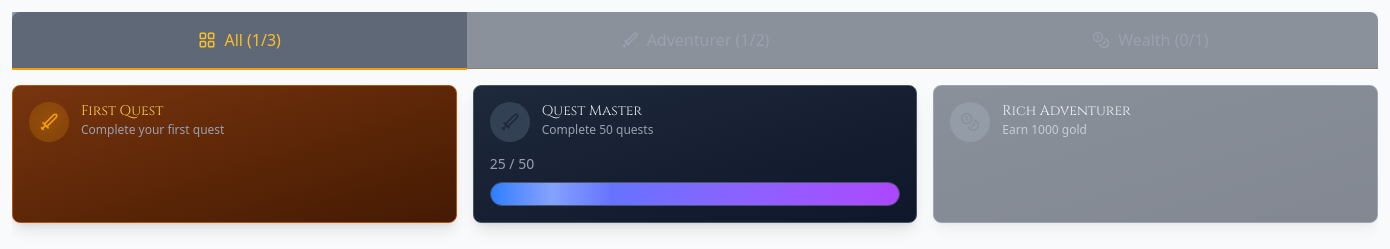
Test: AchievementGrid › shows all achievements when clicking back to All tab
Note: Click Wealth tab first
What coordinates should you click on to do the following:
click the tab with test id "achievement-tab-cat-2"
I would click on:
 (1150, 41)
Its box is [923,12,1378,70].
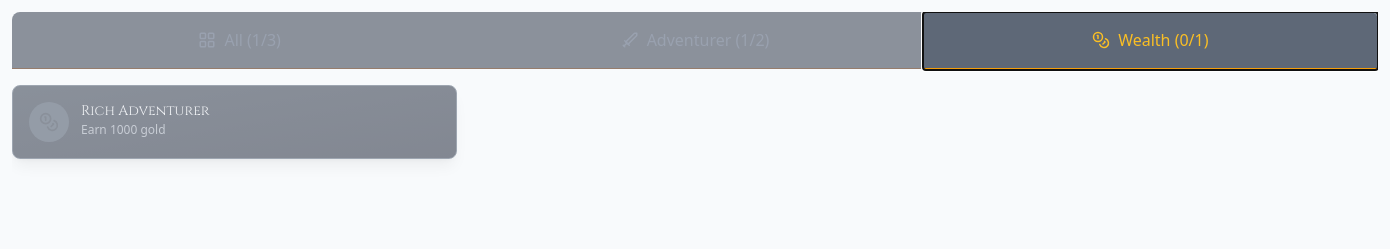
Expected: the heading "First Quest" is gone
Note: Click All tab
What coordinates should you click on to do the following:
click the tab with test id "achievement-tab-all"
I would click on:
 (240, 41)
Its box is [12,12,467,70].
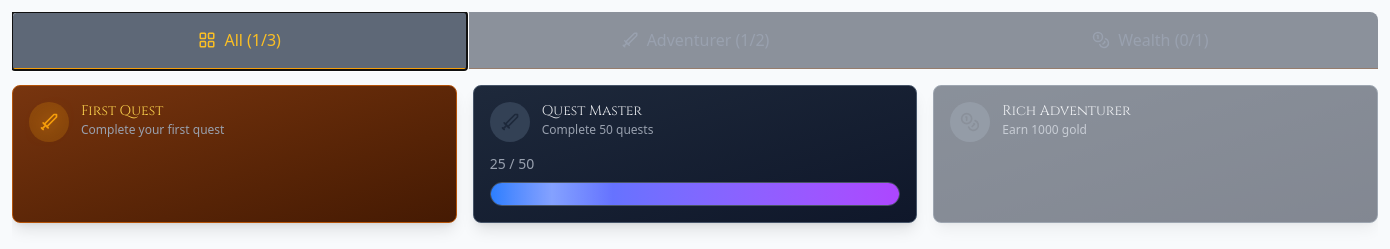
Expected: the heading "Rich Adventurer" is shown, [1002,101,1131,120]
Expected: the heading "First Quest" is shown, [81,101,163,120]
